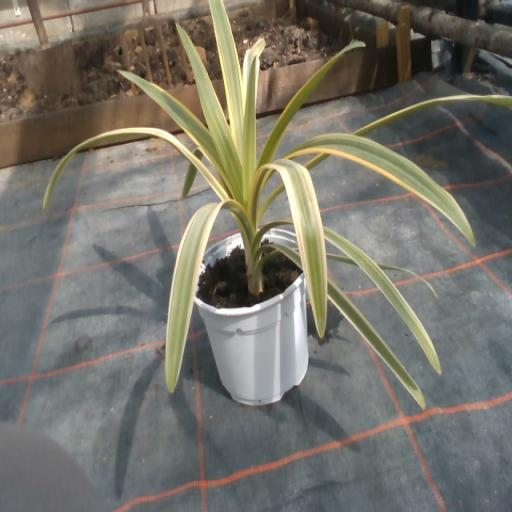Agapanthus-praecox: (288, 134, 474, 242), (323, 227, 440, 373), (166, 199, 250, 391), (43, 128, 227, 208), (249, 159, 326, 335), (328, 279, 423, 407), (177, 23, 241, 199), (119, 71, 219, 167), (259, 53, 339, 163), (352, 95, 511, 135), (210, 0, 243, 159), (242, 58, 258, 198), (376, 263, 436, 295), (271, 243, 304, 271), (262, 185, 283, 217), (182, 163, 197, 197), (260, 222, 291, 237), (306, 154, 330, 169), (329, 253, 356, 263), (193, 148, 203, 160)
